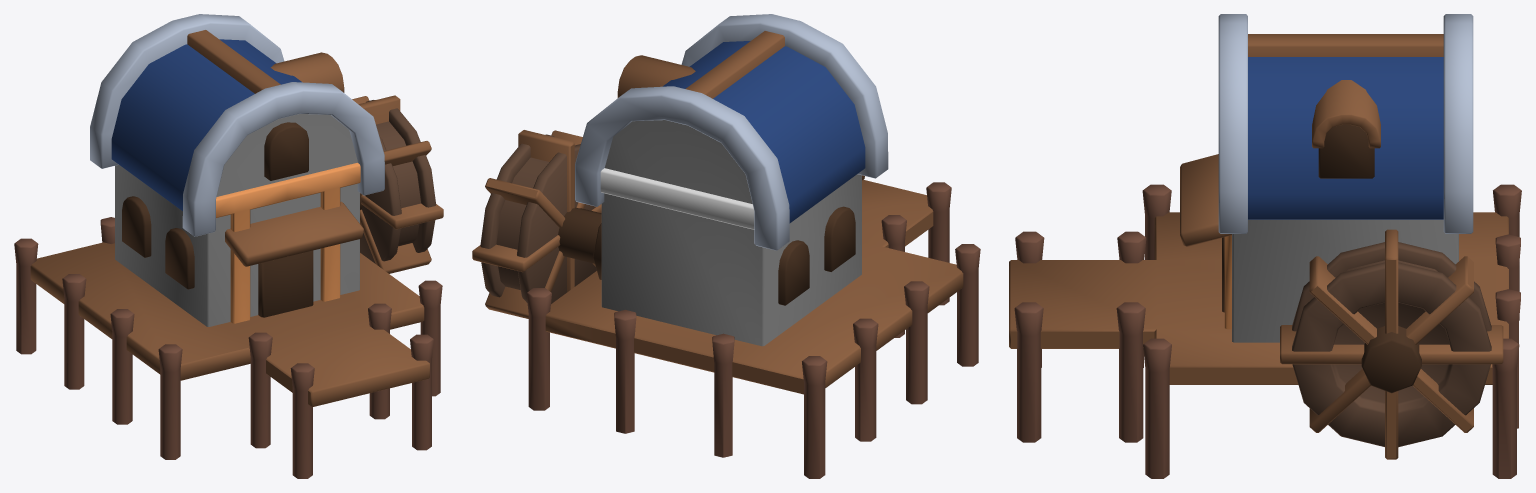
Rendered from Water-Mill.fbx.
The picture shows the model from 3 angles, left to right: view 1: azimuth 30°, elevation 25°; view 2: azimuth 150°, elevation 25°; view 3: azimuth 270°, elevation 25°; orthographic projection. The views are drawn at different scales.
Parts seen in each view (by area): view 1: Cube.1186, Cube.1188, Cube.1187, Cube.1191, Cylinder.256, Cube.1192, Cylinder.252, Cube.1199, Cube.1200, Cylinder.258, Cylinder.255, Cube.1194 (+11 smaller); view 2: Cube.1187, Cube.1186, Cube.1188, Cube.1191, Cylinder.256, Cylinder.252, Cylinder.260, Cube.1201, Cylinder.259, Cube.1190, Cylinder.253, Cube.1196 (+8 smaller); view 3: Cube.1186, Cube.1191, Cylinder.252, Cube.1188, Cube.1187, Cylinder.259, Cube.1190, Cylinder.254, Cylinder.257, Cube.1195, Cube.1199, Cube.1193 (+10 smaller).
Part boxes in pixels (bbox=[...]): Cube.1186: bbox=[30, 242, 429, 407]; Cube.1188: bbox=[90, 14, 384, 236]; Cube.1187: bbox=[115, 114, 359, 326]; Cube.1191: bbox=[111, 39, 301, 210]; Cylinder.256: bbox=[14, 238, 182, 459]; Cube.1192: bbox=[216, 162, 360, 323]; Cylinder.252: bbox=[360, 100, 436, 263]; Cube.1199: bbox=[225, 201, 363, 266]; Cube.1200: bbox=[258, 250, 313, 317]; Cylinder.258: bbox=[248, 332, 272, 448]; Cylinder.255: bbox=[290, 363, 314, 478]; Cube.1194: bbox=[264, 122, 308, 180]; Cube.1187: bbox=[601, 120, 861, 346]; Cube.1186: bbox=[545, 179, 963, 394]; Cube.1188: bbox=[575, 14, 888, 250]; Cube.1191: bbox=[663, 41, 865, 223]; Cylinder.256: bbox=[802, 244, 980, 478]; Cylinder.252: bbox=[480, 134, 596, 303]; Cylinder.260: bbox=[614, 309, 734, 457]; Cube.1201: bbox=[600, 168, 754, 229]; Cylinder.259: bbox=[526, 288, 551, 410]; Cube.1190: bbox=[686, 31, 784, 98]; Cylinder.253: bbox=[558, 207, 601, 279]; Cube.1196: bbox=[518, 130, 574, 292]; Cube.1186: bbox=[1009, 212, 1508, 384]; Cube.1191: bbox=[1248, 57, 1443, 219]; Cylinder.252: bbox=[1292, 242, 1491, 447]; Cube.1188: bbox=[1218, 14, 1473, 233]; Cube.1187: bbox=[1232, 219, 1458, 342]; Cylinder.259: bbox=[1143, 338, 1519, 478]; Cube.1190: bbox=[1248, 34, 1443, 56]; Cylinder.254: bbox=[1014, 302, 1043, 442]; Cylinder.257: bbox=[1116, 302, 1145, 442]; Cube.1195: bbox=[1280, 325, 1503, 364]; Cube.1199: bbox=[1180, 154, 1231, 246]; Cube.1193: bbox=[1312, 80, 1380, 148].
Bounding box in the file's own units: 160 × 136 × 169.
